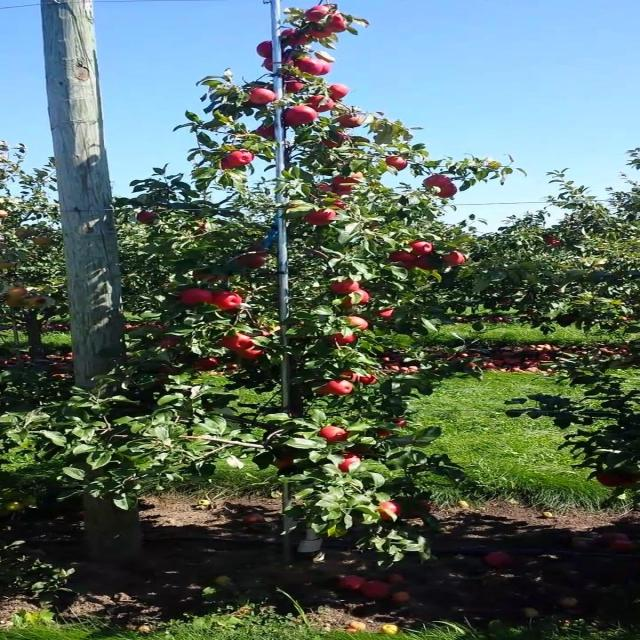apple: (596, 472, 638, 488), (284, 108, 320, 125), (212, 292, 242, 311), (184, 288, 213, 306), (326, 380, 356, 396), (404, 504, 434, 520), (376, 504, 404, 521), (248, 88, 277, 104), (319, 428, 348, 444), (191, 272, 228, 284), (326, 12, 348, 32), (269, 56, 293, 74), (227, 336, 256, 350), (284, 32, 311, 47), (305, 212, 336, 225), (333, 280, 361, 294), (390, 252, 414, 268), (326, 132, 350, 148), (340, 456, 363, 472), (326, 84, 348, 100), (312, 96, 334, 112), (298, 60, 320, 76), (348, 292, 370, 307), (305, 8, 327, 23), (426, 176, 453, 188), (241, 256, 267, 268), (255, 44, 277, 58), (333, 332, 356, 345), (241, 348, 265, 360), (348, 316, 370, 329), (234, 152, 256, 165), (340, 116, 363, 128), (333, 184, 356, 196), (340, 172, 363, 184), (447, 252, 468, 265), (276, 456, 297, 469), (390, 156, 407, 172), (333, 176, 363, 185), (412, 244, 434, 256), (255, 128, 277, 140), (312, 28, 334, 40), (198, 360, 220, 371), (319, 60, 334, 76), (419, 256, 434, 272), (340, 372, 361, 383), (220, 160, 240, 171), (255, 328, 276, 337), (440, 188, 457, 199), (291, 80, 306, 92), (383, 308, 398, 320), (141, 212, 156, 224), (6, 288, 28, 296), (319, 384, 332, 396), (163, 340, 180, 349), (6, 300, 23, 308), (163, 368, 180, 376), (333, 200, 348, 209), (362, 376, 377, 384), (319, 184, 334, 192), (397, 420, 407, 428), (376, 432, 391, 437)
